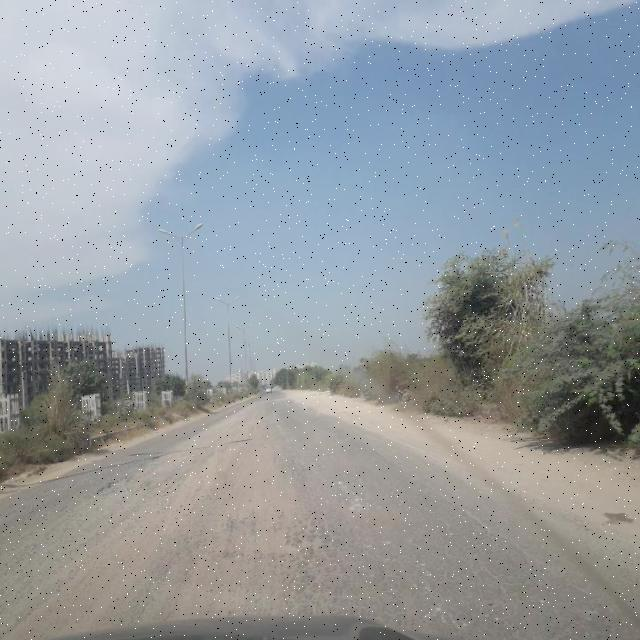D00: (378, 453, 606, 600)
D20: (287, 490, 523, 620)
D40: (186, 499, 316, 568), (90, 454, 182, 495)
